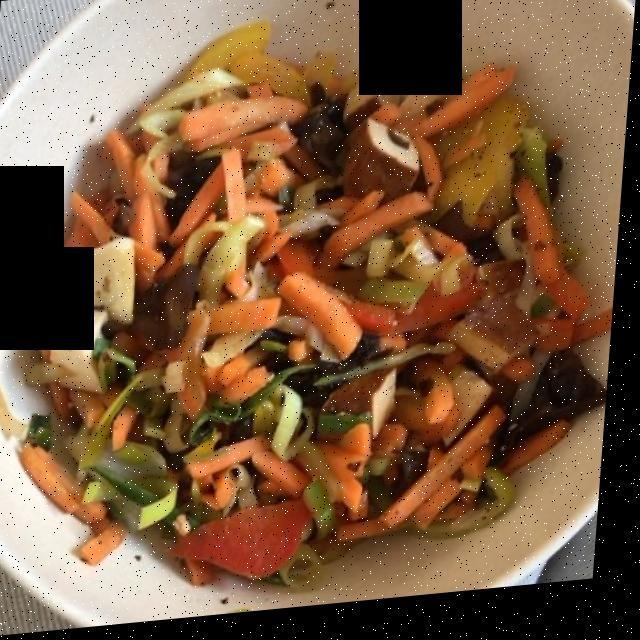mixed-vegetables: (21, 38, 590, 576)
